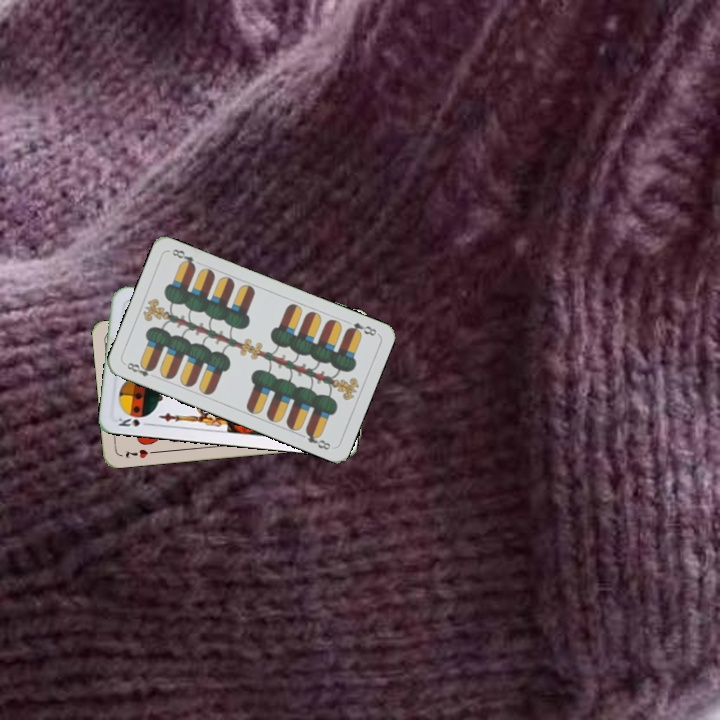E8: (121, 358, 159, 381), (342, 318, 379, 339)
H7: (121, 445, 158, 461)
SK: (114, 414, 153, 429)
